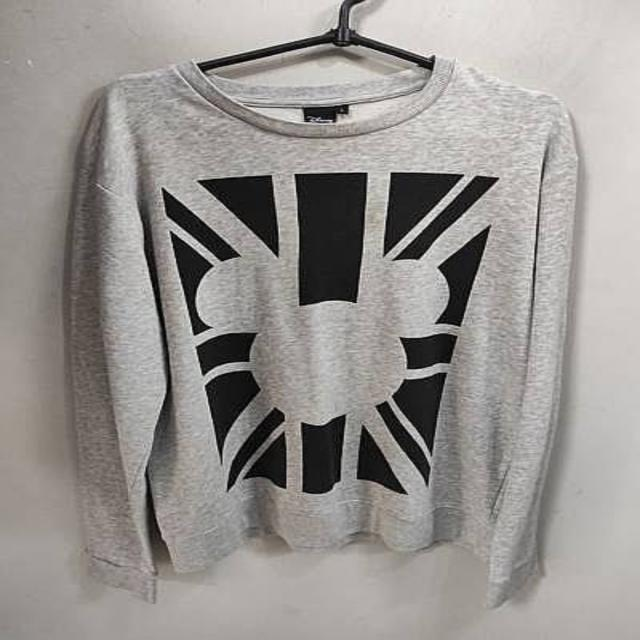SHIRT: (50, 34, 640, 618)
